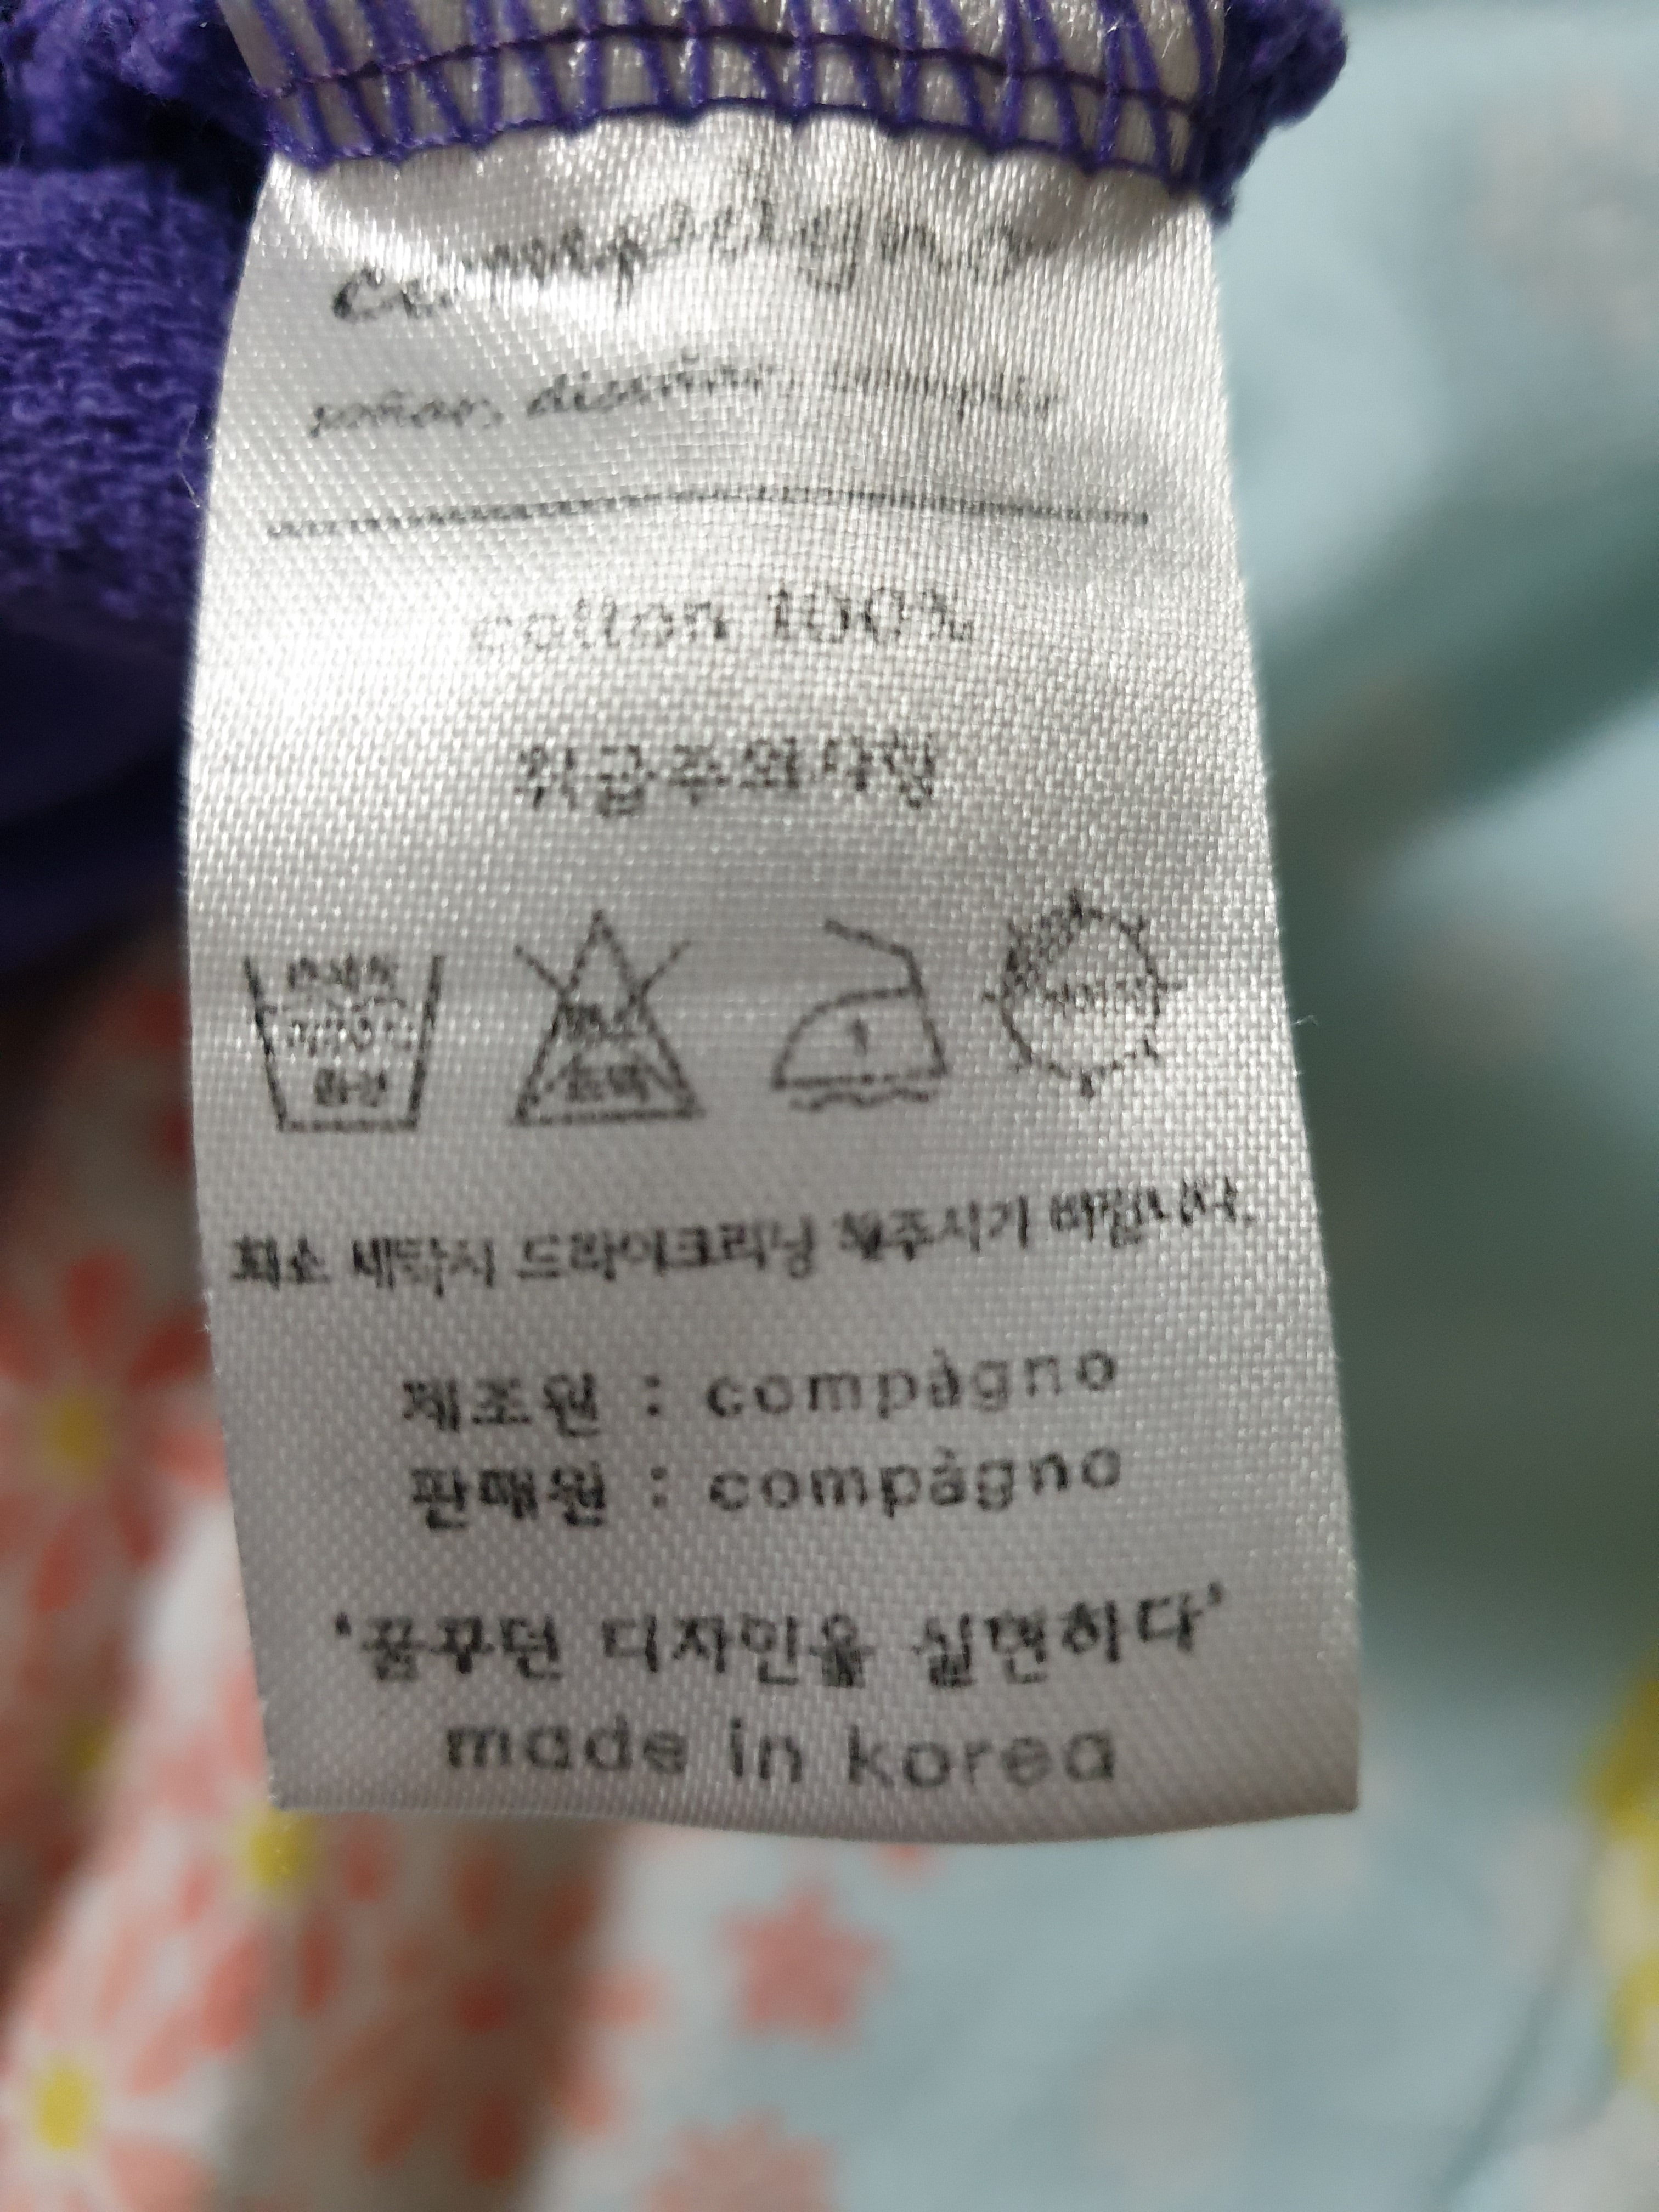do_not_bleach: (479, 904, 725, 1136)
